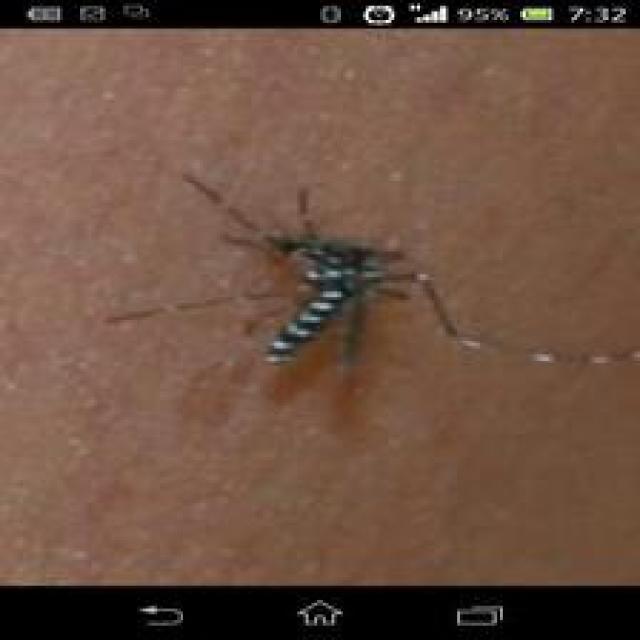Aedes albopictus: (180, 172, 463, 368)
